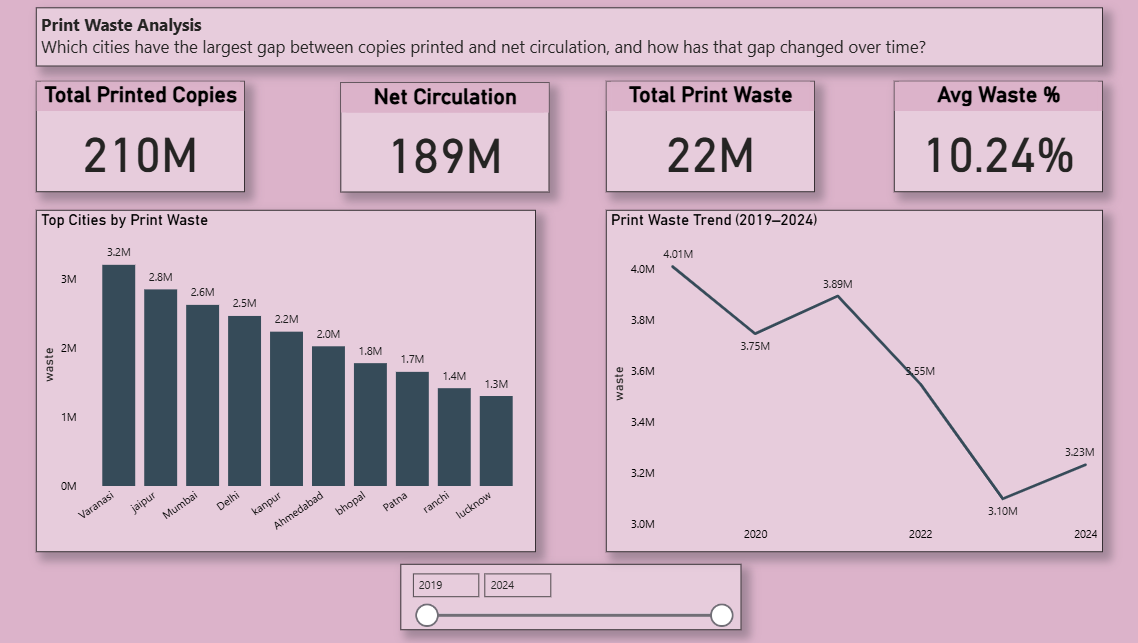

What the dashboard file says about the page in this screenshot:
{"tool":"powerbi","page":{"name":"Print Waste Analysis","canvas":[1280,720],"ordinal":2},"visuals":[{"type":"columnChart","title":"Top Cities by Print Waste","fields":{"Category":["dim_city.city"],"Y":["fact_print_sales.waste"]},"box":[50,236.7,555,380],"z":0},{"type":"card","title":"Total Printed Copies","fields":{"Values":["fact_print_sales.Copies Printed"]},"box":[50,93.3,231.7,123.3],"z":1000},{"type":"card","title":"Net Circulation","fields":{"Values":["Sum(fact_print_sales.Net_Circulation)"]},"box":[388.3,95,231.7,121.7],"z":2000},{"type":"card","title":"Total Print Waste","fields":{"Values":["fact_print_sales.waste"]},"box":[683.3,93.3,231.7,123.3],"z":3000},{"type":"slicer","fields":{"Values":["dim_date.Year"]},"box":[455,630,378.3,73.3],"z":4000},{"type":"textbox","box":[50,11.7,1185,65],"z":5000},{"type":"lineChart","title":"Print Waste Trend (2019–2024)","fields":{"Y":["fact_print_sales.waste"],"Category":["dim_date.Year"]},"box":[683.3,236.7,551.7,380],"z":6000},{"type":"card","title":"Avg Waste %","fields":{"Values":["fact_print_sales.Print Waste %"]},"box":[1003.3,93.3,231.7,123.3],"z":7000}]}

Visuals, with their boxes in screenshot pixels (x1, y1, x2, y2), scaled from the page's 1280x720 canvas onto the 1138x643 screenshot:
"Top Cities by Print Waste" columnChart: bbox=[44, 211, 538, 551]
"Total Printed Copies" card: bbox=[44, 83, 250, 193]
"Net Circulation" card: bbox=[345, 85, 551, 194]
"Total Print Waste" card: bbox=[607, 83, 813, 193]
slicer - dim_date.Year: bbox=[405, 563, 741, 628]
textbox: bbox=[44, 10, 1098, 68]
"Print Waste Trend (2019–2024)" lineChart: bbox=[607, 211, 1098, 551]
"Avg Waste %" card: bbox=[892, 83, 1098, 193]
